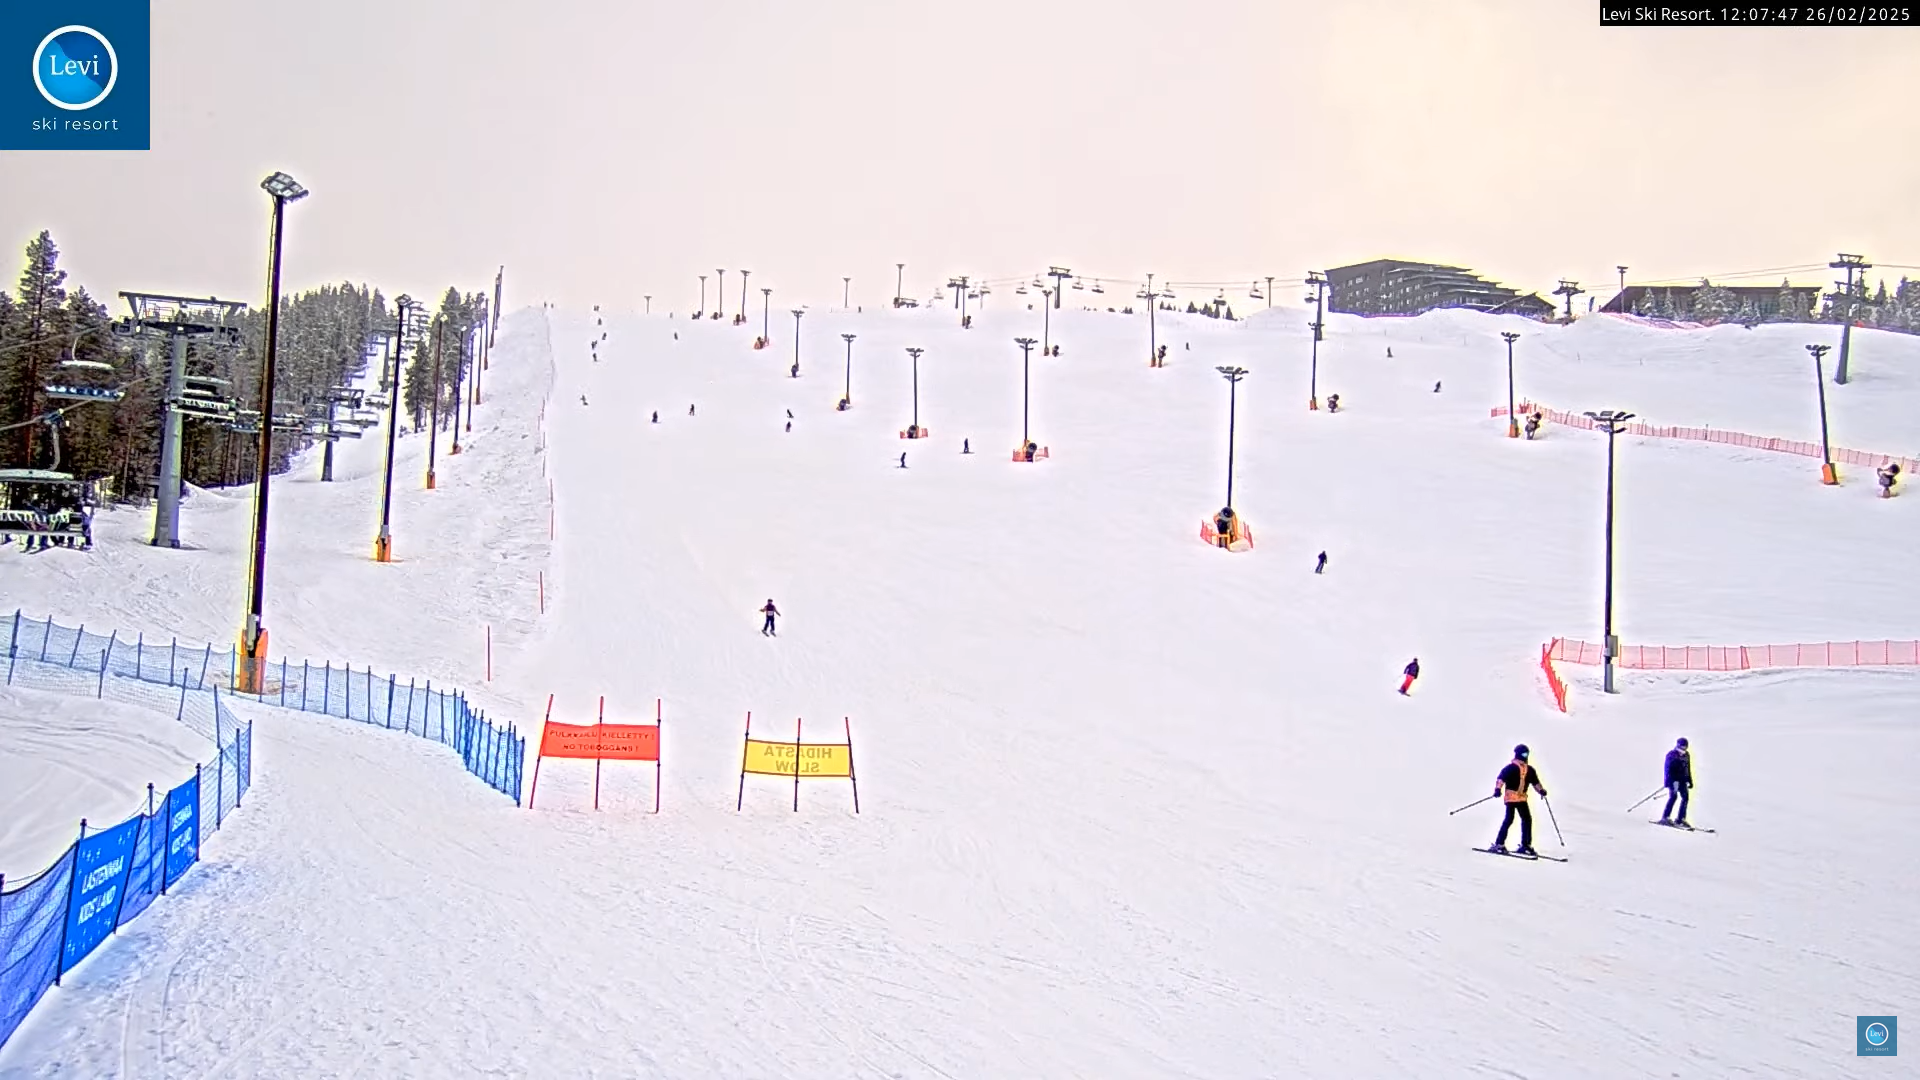skier: (1440, 745, 1582, 869), (1629, 738, 1720, 836), (749, 593, 791, 640)
